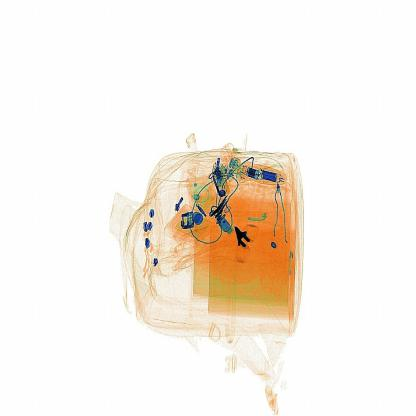gun: (231, 209, 271, 280)
